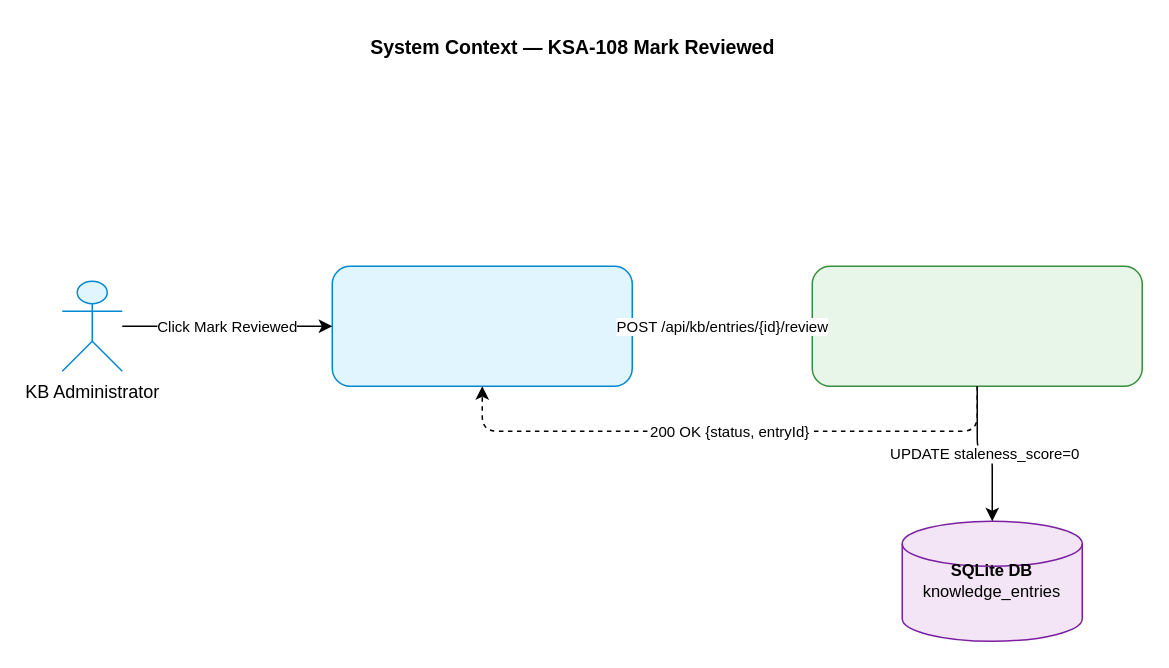
This 1169x668 diagram has some shape labels left out. The shapes that lost their labels are listed below. From the top down, each one's centre as x and y in pixels, then its label:
At point (481, 325): "KB Web Viewer (dashboard.html + browser.js)".
At point (976, 325): "MCP Server API POST /api/kb/entries/{id}/review".
